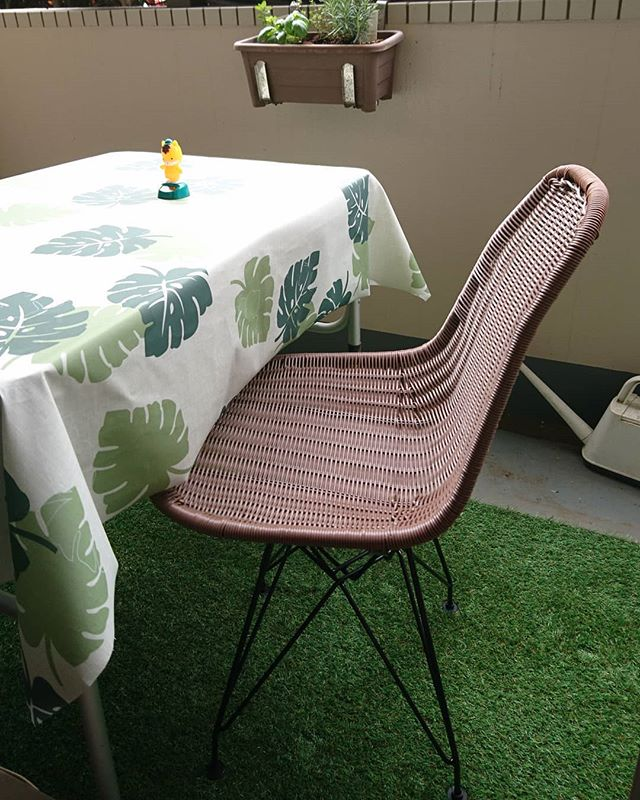chair: (176, 148, 618, 770)
table: (1, 130, 377, 609)
